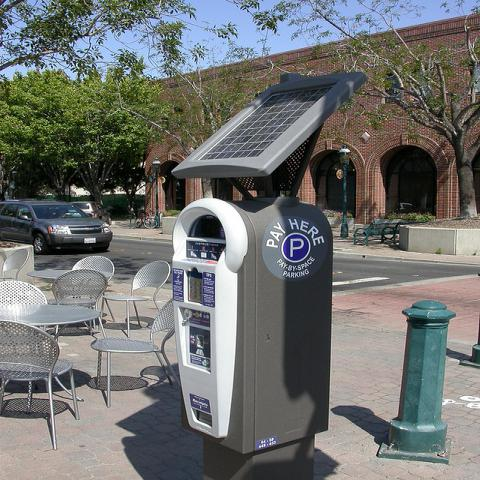car: (0, 197, 113, 255), (67, 201, 112, 225)
